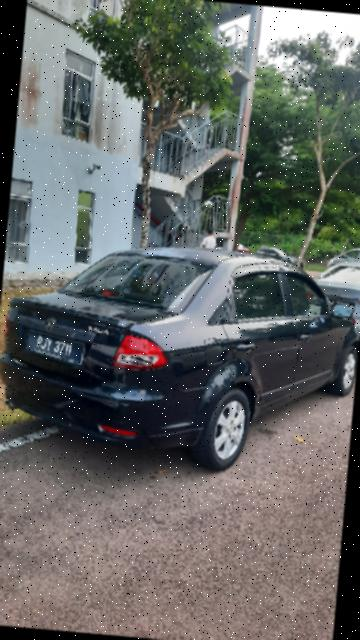License_Plate: (20, 324, 91, 372)
car: (1, 230, 360, 483)
